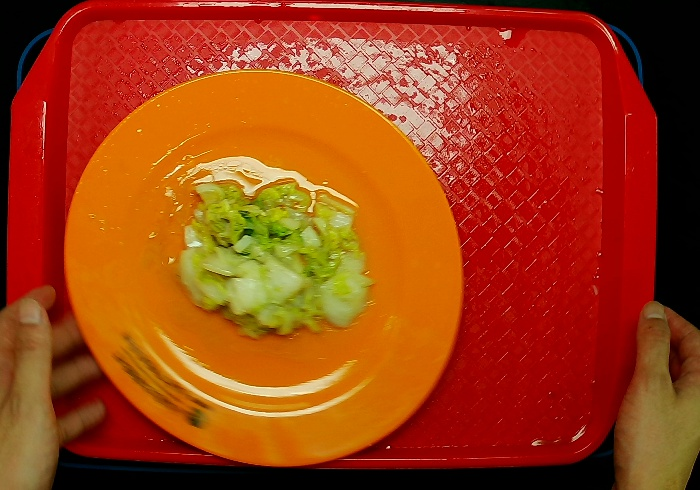YKMZ-Ju_Se_Mian_Pan: (63, 70, 464, 468)
